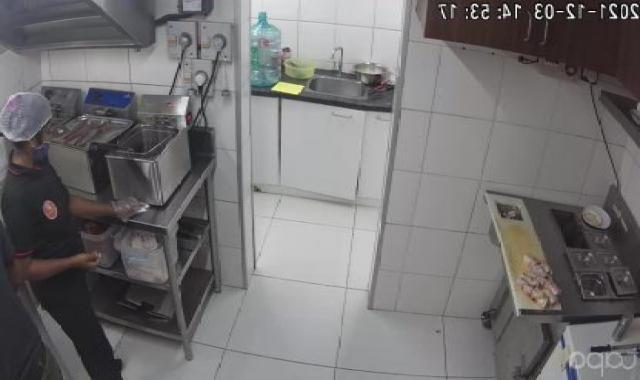apron: (104, 187, 153, 224)
gloves: (0, 89, 78, 144)
no_apron: (60, 240, 106, 275)
no_hairnet: (25, 128, 61, 163)
